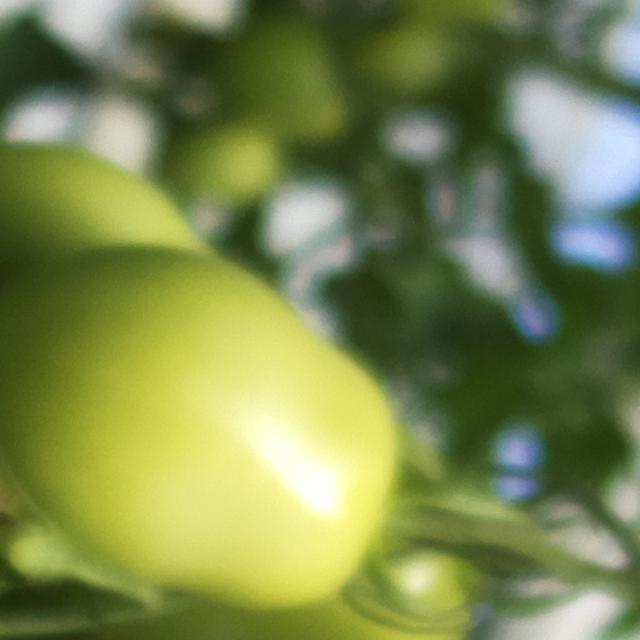tomato: (0, 190, 640, 640)
